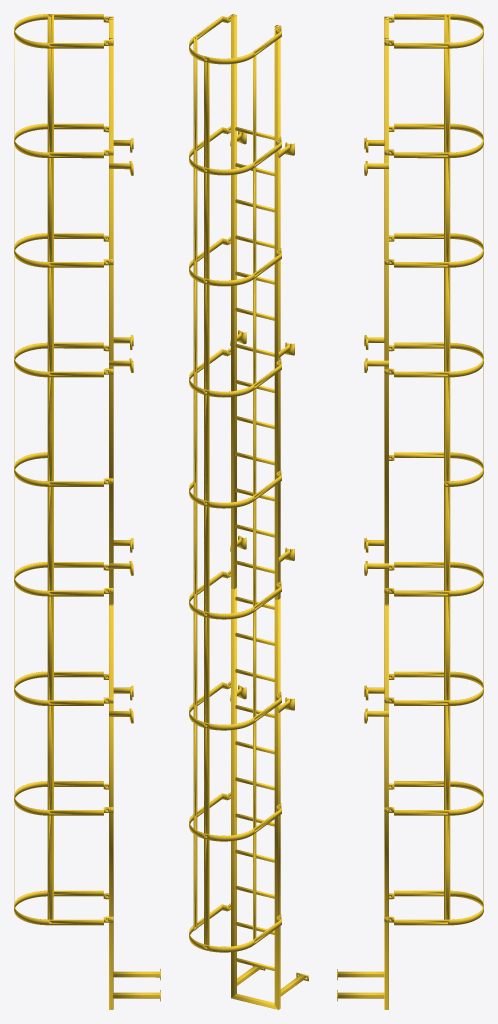
Rendered from Escalera.glb.
The picture shows the model from 3 angles, left to right: view 1: azimuth 90°, elevation 25°; view 2: azimuth 150°, elevation 25°; view 3: azimuth 270°, elevation 25°; orthographic projection.
Visible parts, largest first — view 1: SL40TD=1.25-SIL-002-01; view 2: SL40TD=1.25-SIL-002-01; view 3: SL40TD=1.25-SIL-002-01.
Part boxes in pixels (<box>): SL40TD=1.25-SIL-002-01: <box>14,14,160,1009</box>; SL40TD=1.25-SIL-002-01: <box>189,14,308,1009</box>; SL40TD=1.25-SIL-002-01: <box>337,14,483,1009</box>.
Bounding box in the file's own units: 0.479 × 7.47 × 1.02.
2 materials, 2 textured.
